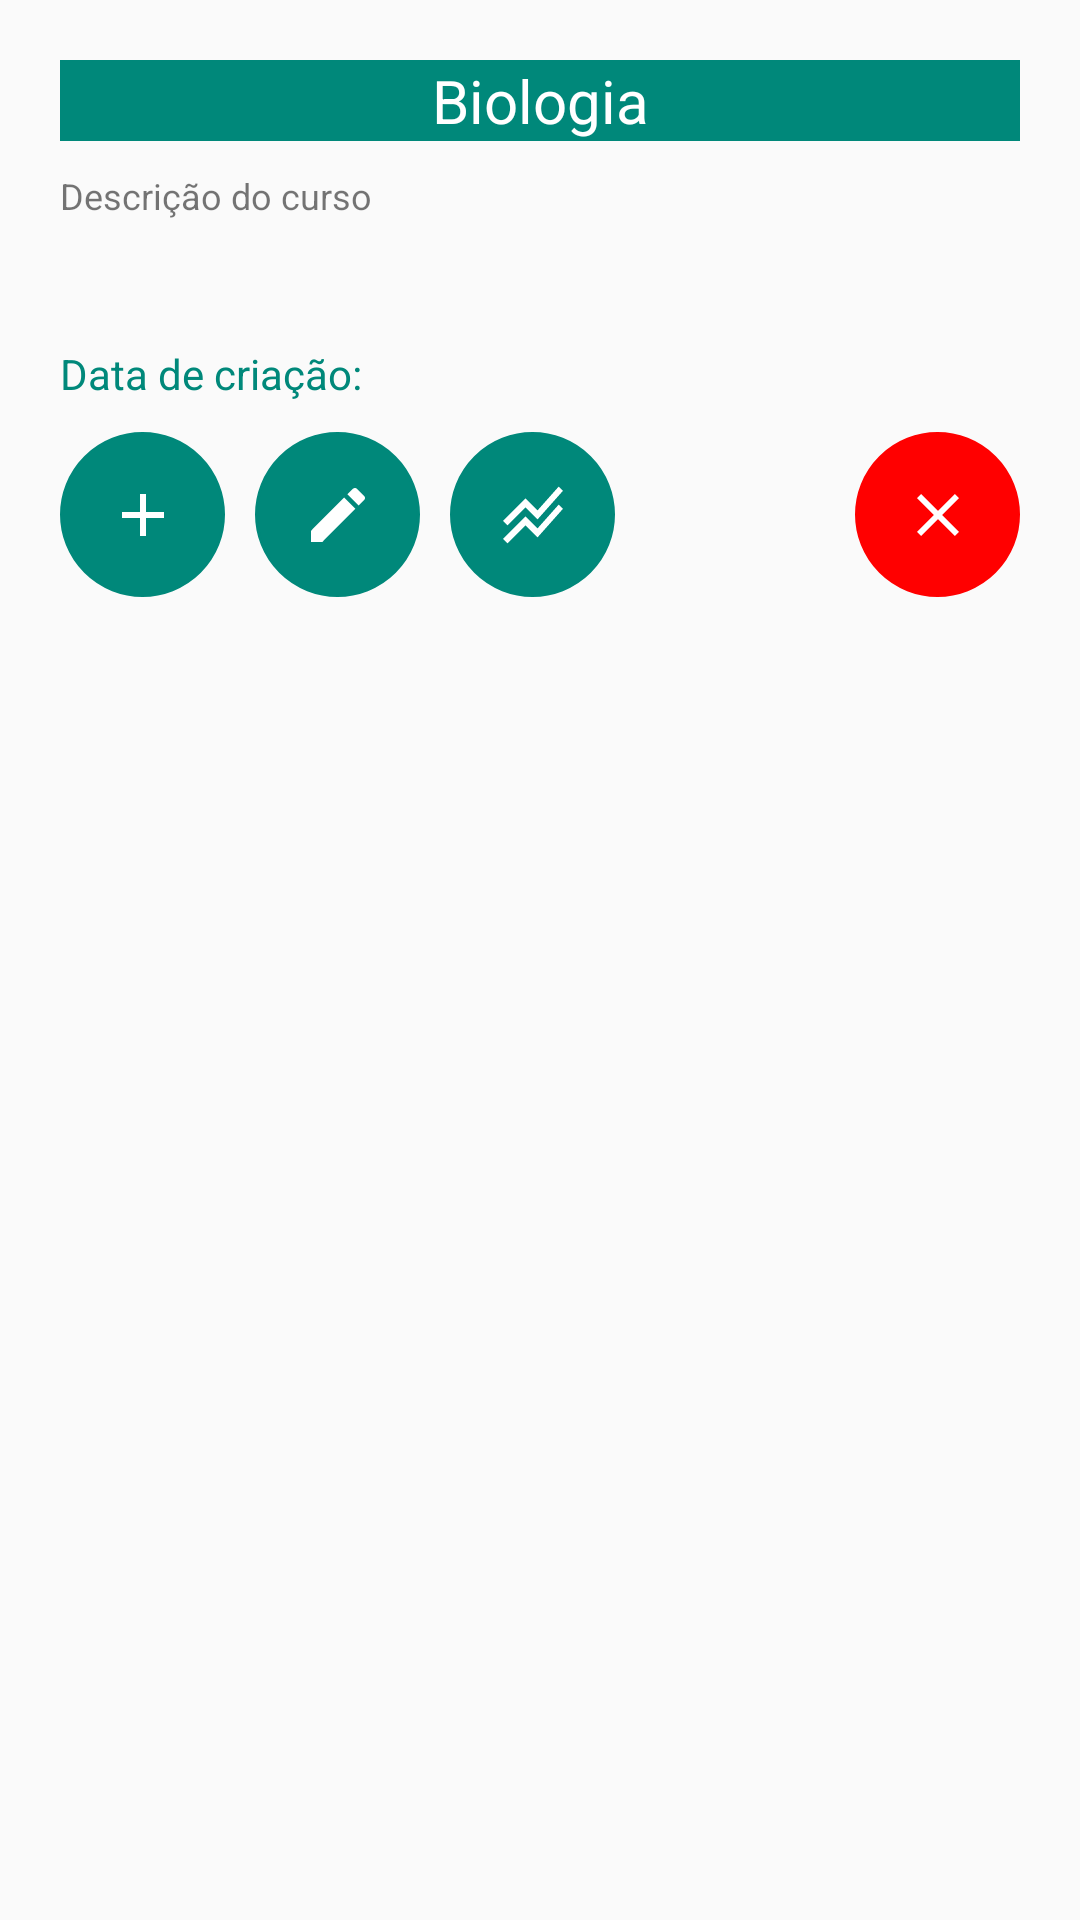

Icon bounding boxes for this 1080*1920 phone screenshot, format (x1, y1, x2, y2):
Add activity button: (60, 432, 225, 597)
Delete course button: (855, 432, 1020, 597)
edit: (255, 432, 420, 597)
